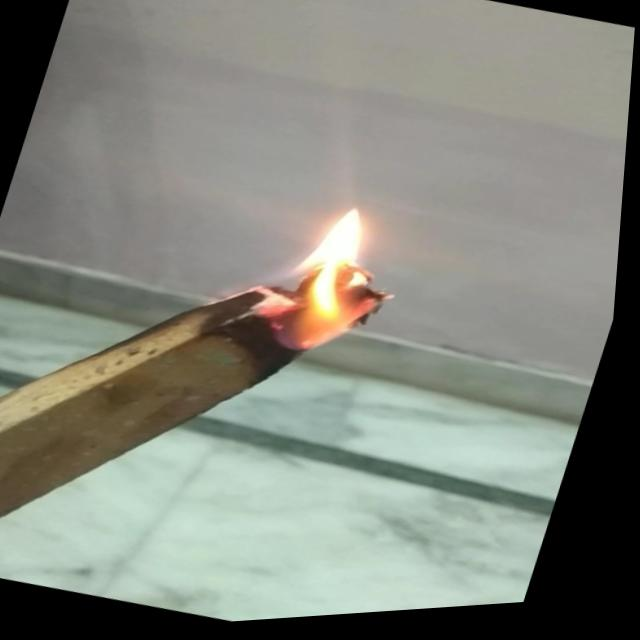fire: (239, 189, 425, 374)
